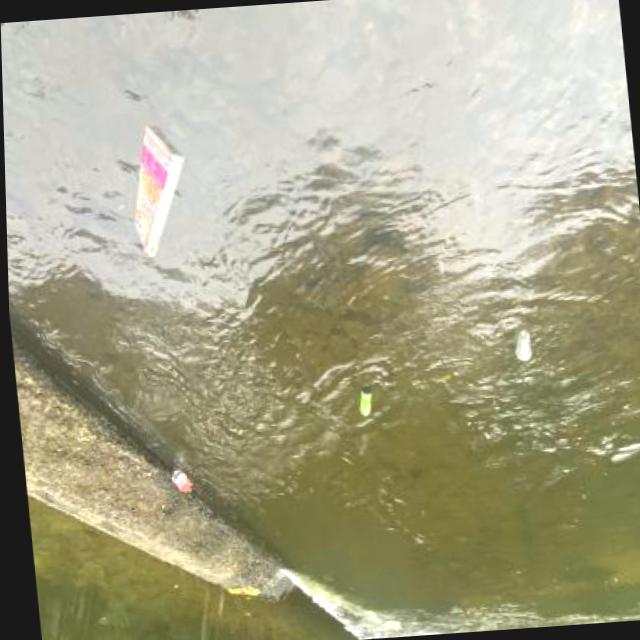Can-Metal: (350, 383, 371, 420)
Cardboard: (114, 106, 197, 262)
Plastic: (503, 320, 535, 364), (163, 462, 194, 497)
